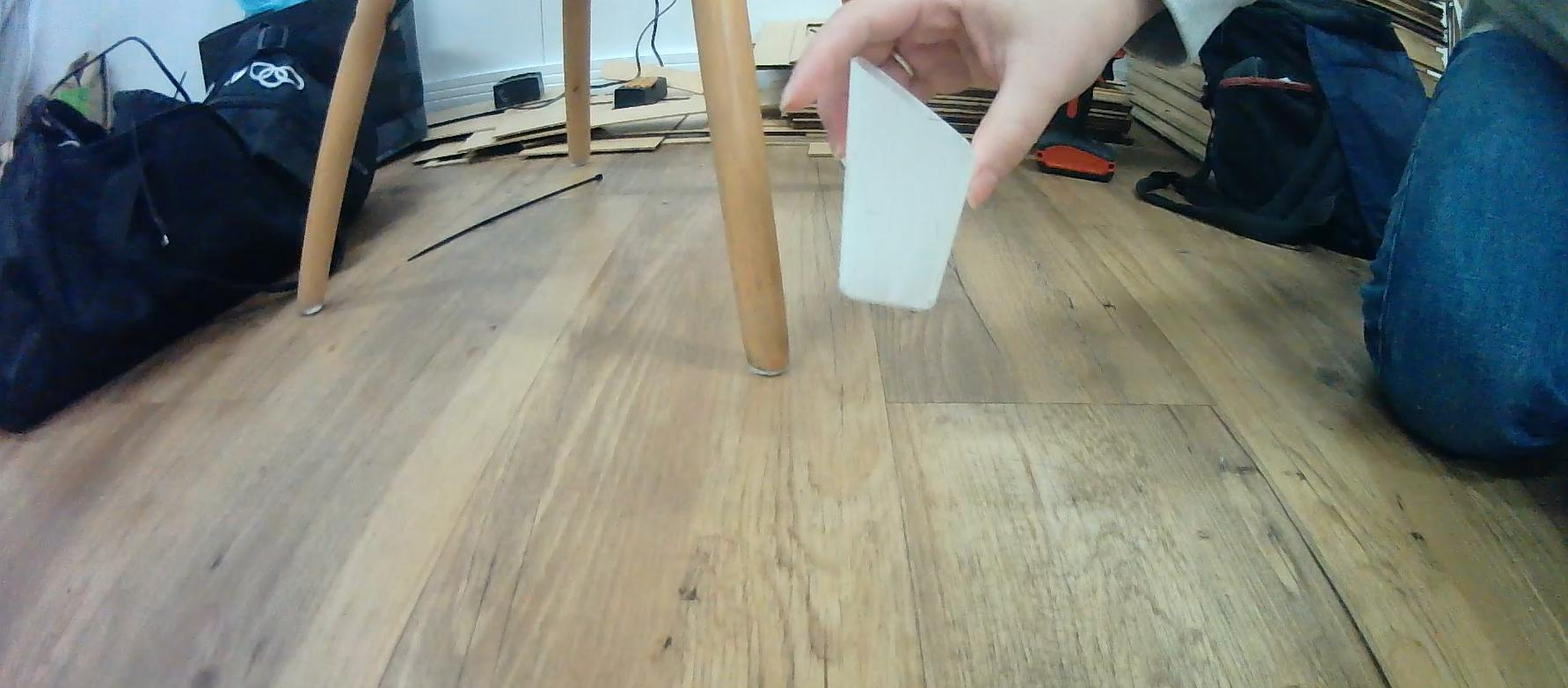erva_daninha: (835, 54, 976, 312)
